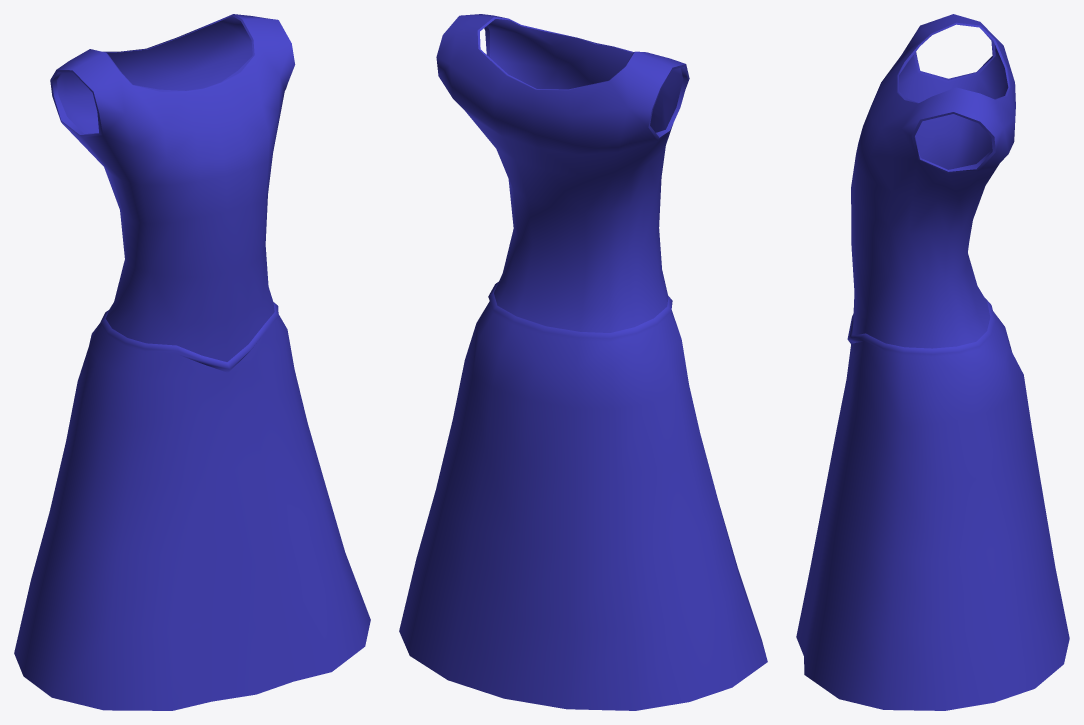
The model's file is DressToZbrush.obj.
The picture shows the model from 3 angles, left to right: view 1: azimuth 30°, elevation 25°; view 2: azimuth 150°, elevation 25°; view 3: azimuth 270°, elevation 25°; orthographic projection. The views are drawn at different scales.
Parts seen in each view (by area): view 1: Mesh_Dress01 Body_Grp Mesh, modelPanel3ViewSelectedSet1 Mesh_Dress01 Body_Grp Mesh; view 2: Mesh_Dress01 Body_Grp Mesh, modelPanel3ViewSelectedSet1 Mesh_Dress01 Body_Grp Mesh; view 3: Mesh_Dress01 Body_Grp Mesh, modelPanel3ViewSelectedSet1 Mesh_Dress01 Body_Grp Mesh.
Boxes of the visible parts, x1,y1,x2,y2 form: Mesh_Dress01 Body_Grp Mesh: [14, 14, 370, 710]; modelPanel3ViewSelectedSet1 Mesh_Dress01 Body_Grp Mesh: [89, 287, 287, 413]; Mesh_Dress01 Body_Grp Mesh: [399, 14, 767, 710]; modelPanel3ViewSelectedSet1 Mesh_Dress01 Body_Grp Mesh: [476, 270, 681, 369]; Mesh_Dress01 Body_Grp Mesh: [796, 14, 1069, 710]; modelPanel3ViewSelectedSet1 Mesh_Dress01 Body_Grp Mesh: [846, 286, 1007, 389].
Size of the model in its own units: 136 by 244 by 104.
